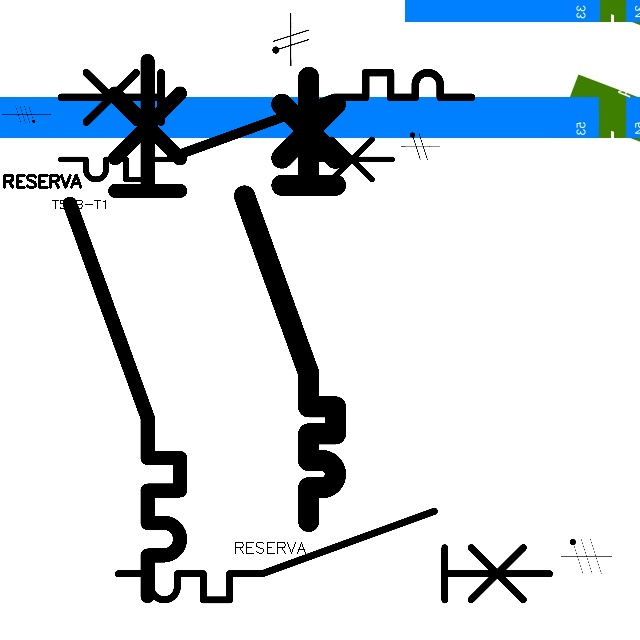interruptor_termomagnetico: (56, 47, 194, 610), (233, 65, 347, 533), (107, 500, 560, 611), (50, 62, 481, 167), (52, 103, 401, 188)
